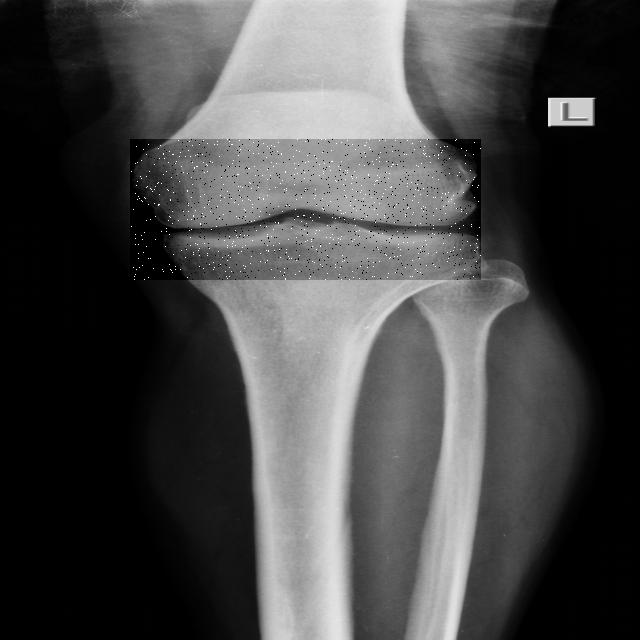normal: (130, 139, 481, 280)
